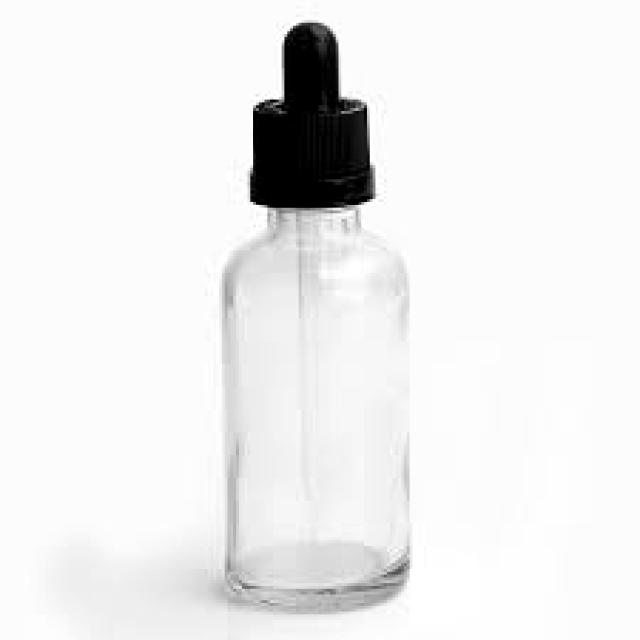Glass: (217, 90, 411, 618)
Plastic: (245, 96, 377, 210)
